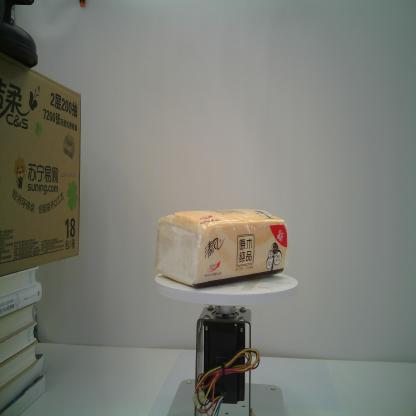Tissue: (155, 208, 289, 288)
